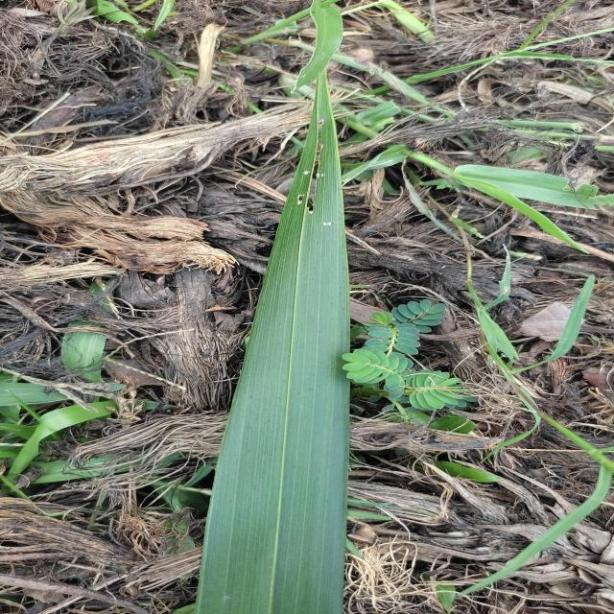Boron: (196, 0, 351, 614)
